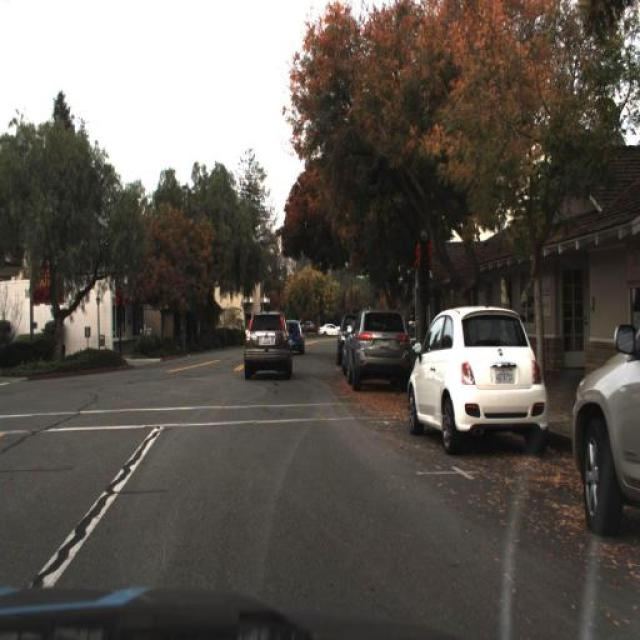car: (401, 305, 551, 457), (569, 305, 640, 544), (339, 304, 411, 388), (242, 308, 292, 384), (283, 317, 305, 359)
